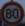Speed Limit -80-: (0, 0, 24, 25)
